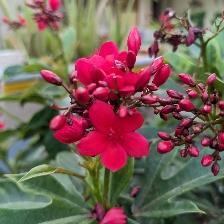jatropha: (77, 99, 152, 173)
